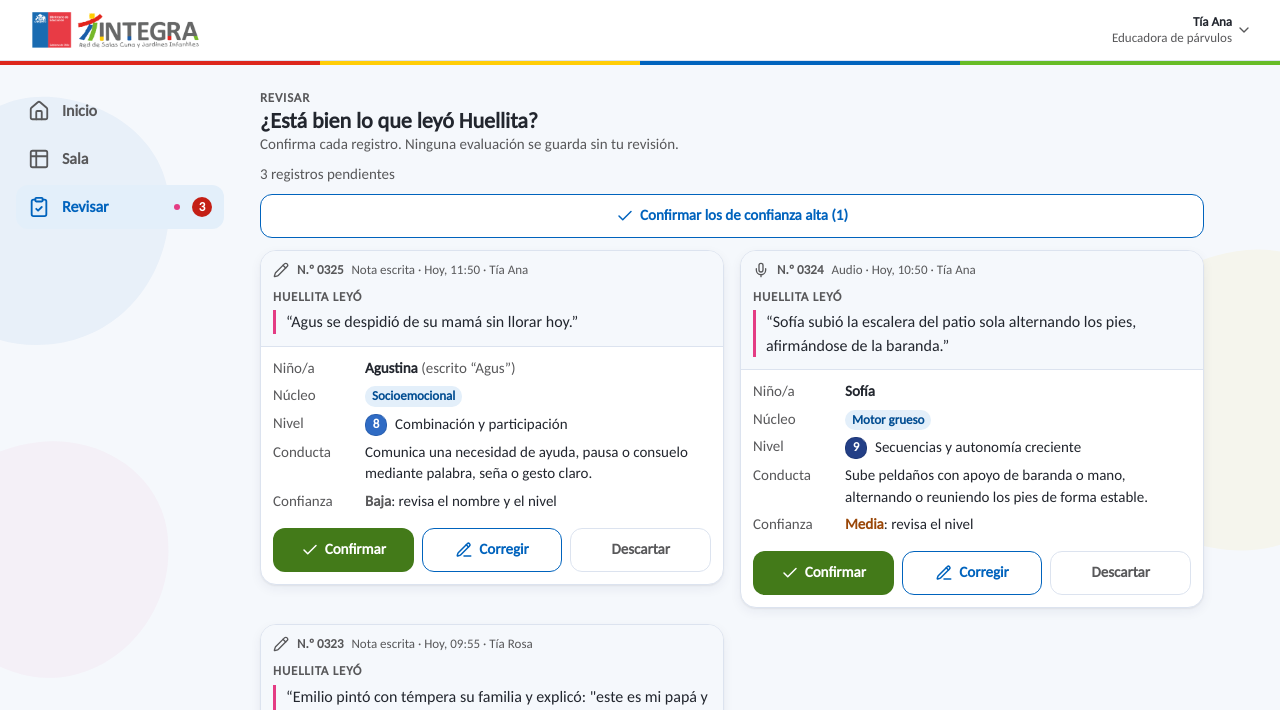
Test: Revisar › Corregir ofrece los 9 niveles con las conductas del núcleo
The image size is (1280, 710).
Click the button "Corregir" below "Baja": (492, 550) [422,528,562,572]
(page scrolled)
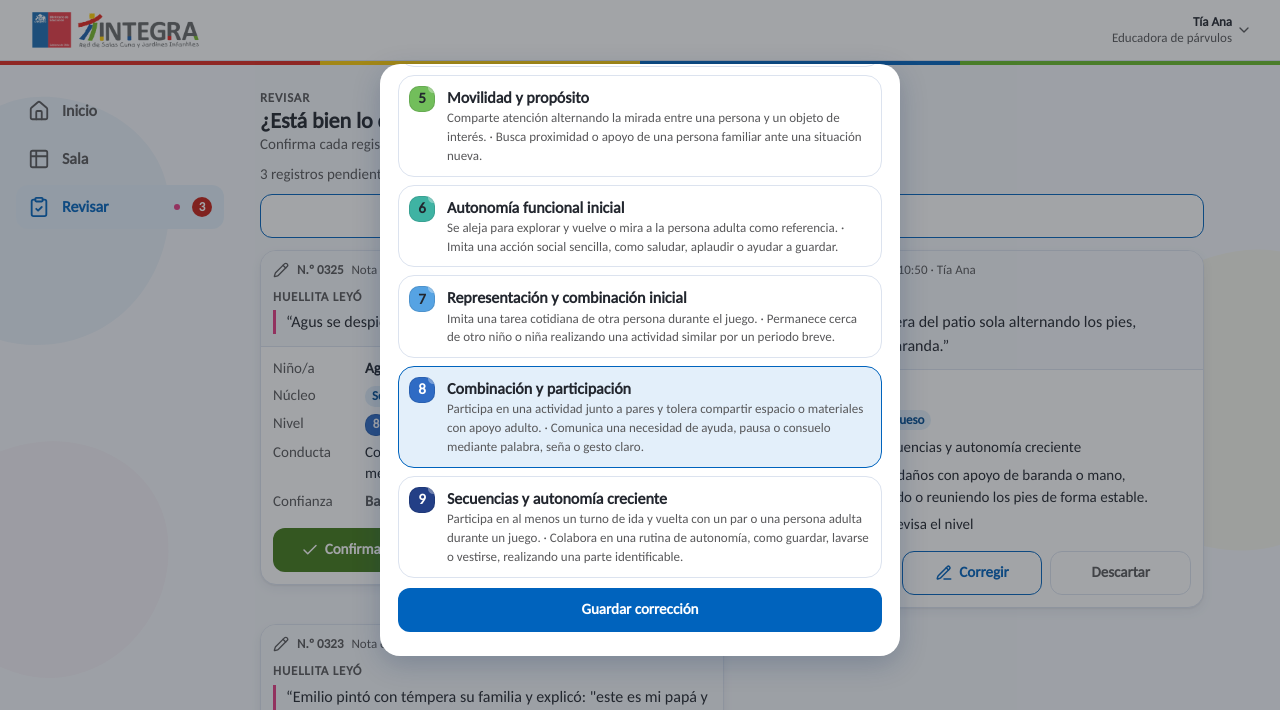
Expected: the radio button that starts with "Secuencias y autonomía creciente" is shown, [398,476,882,578]
